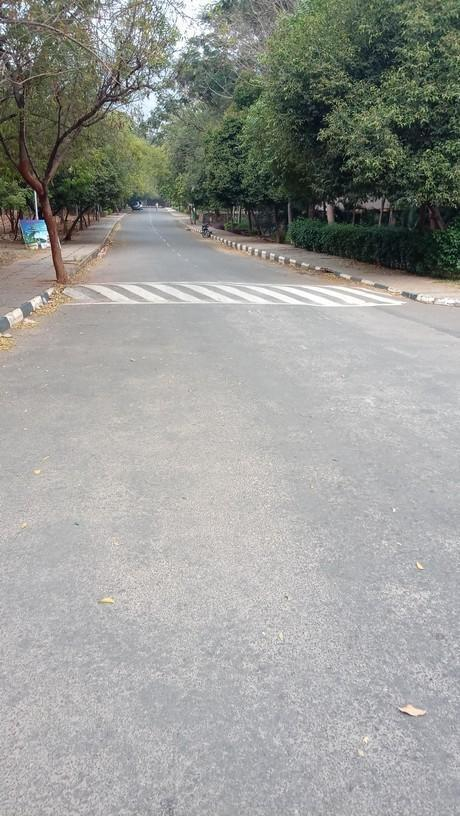speedbreaker: (50, 279, 402, 310)
